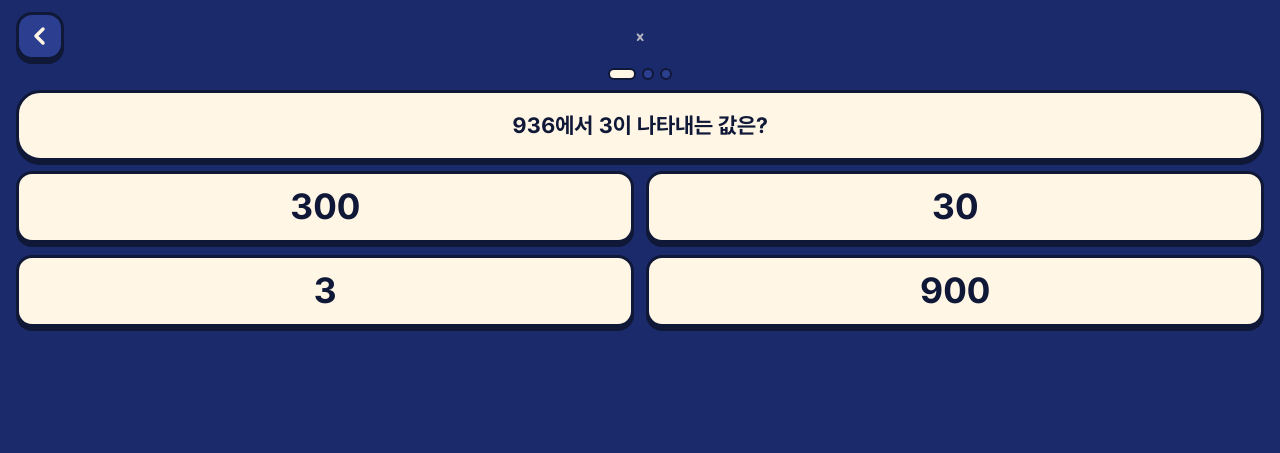
Scenario: StageScreen — 중간에 나가기 › 한 번에 나가지 않고 한 번 더 묻는다
Click the button named "나가기".
click(40, 36)  # box [16,12,64,60]
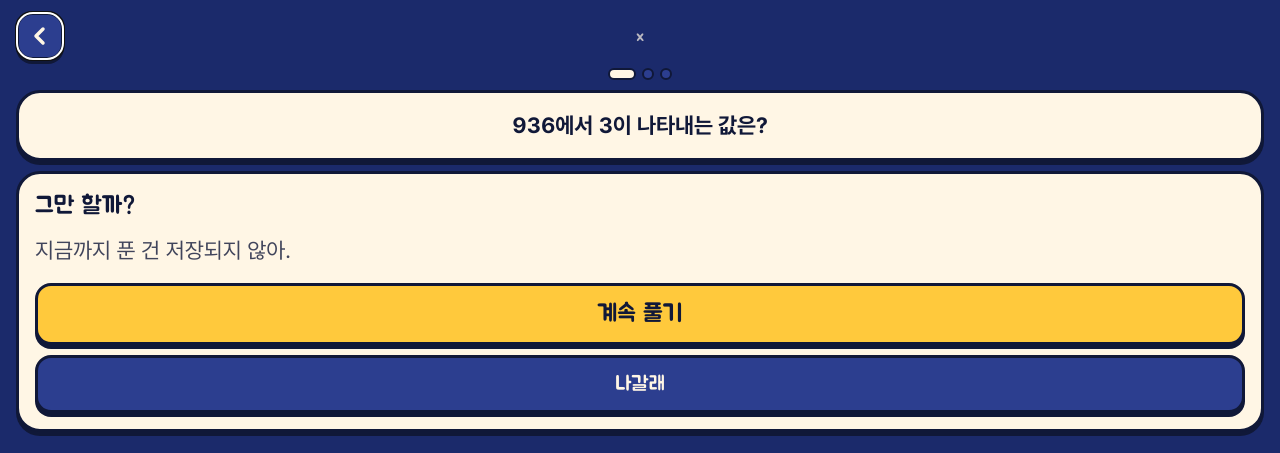
Now the text "그만 할까?" is shown, box [35,194,136,218]
